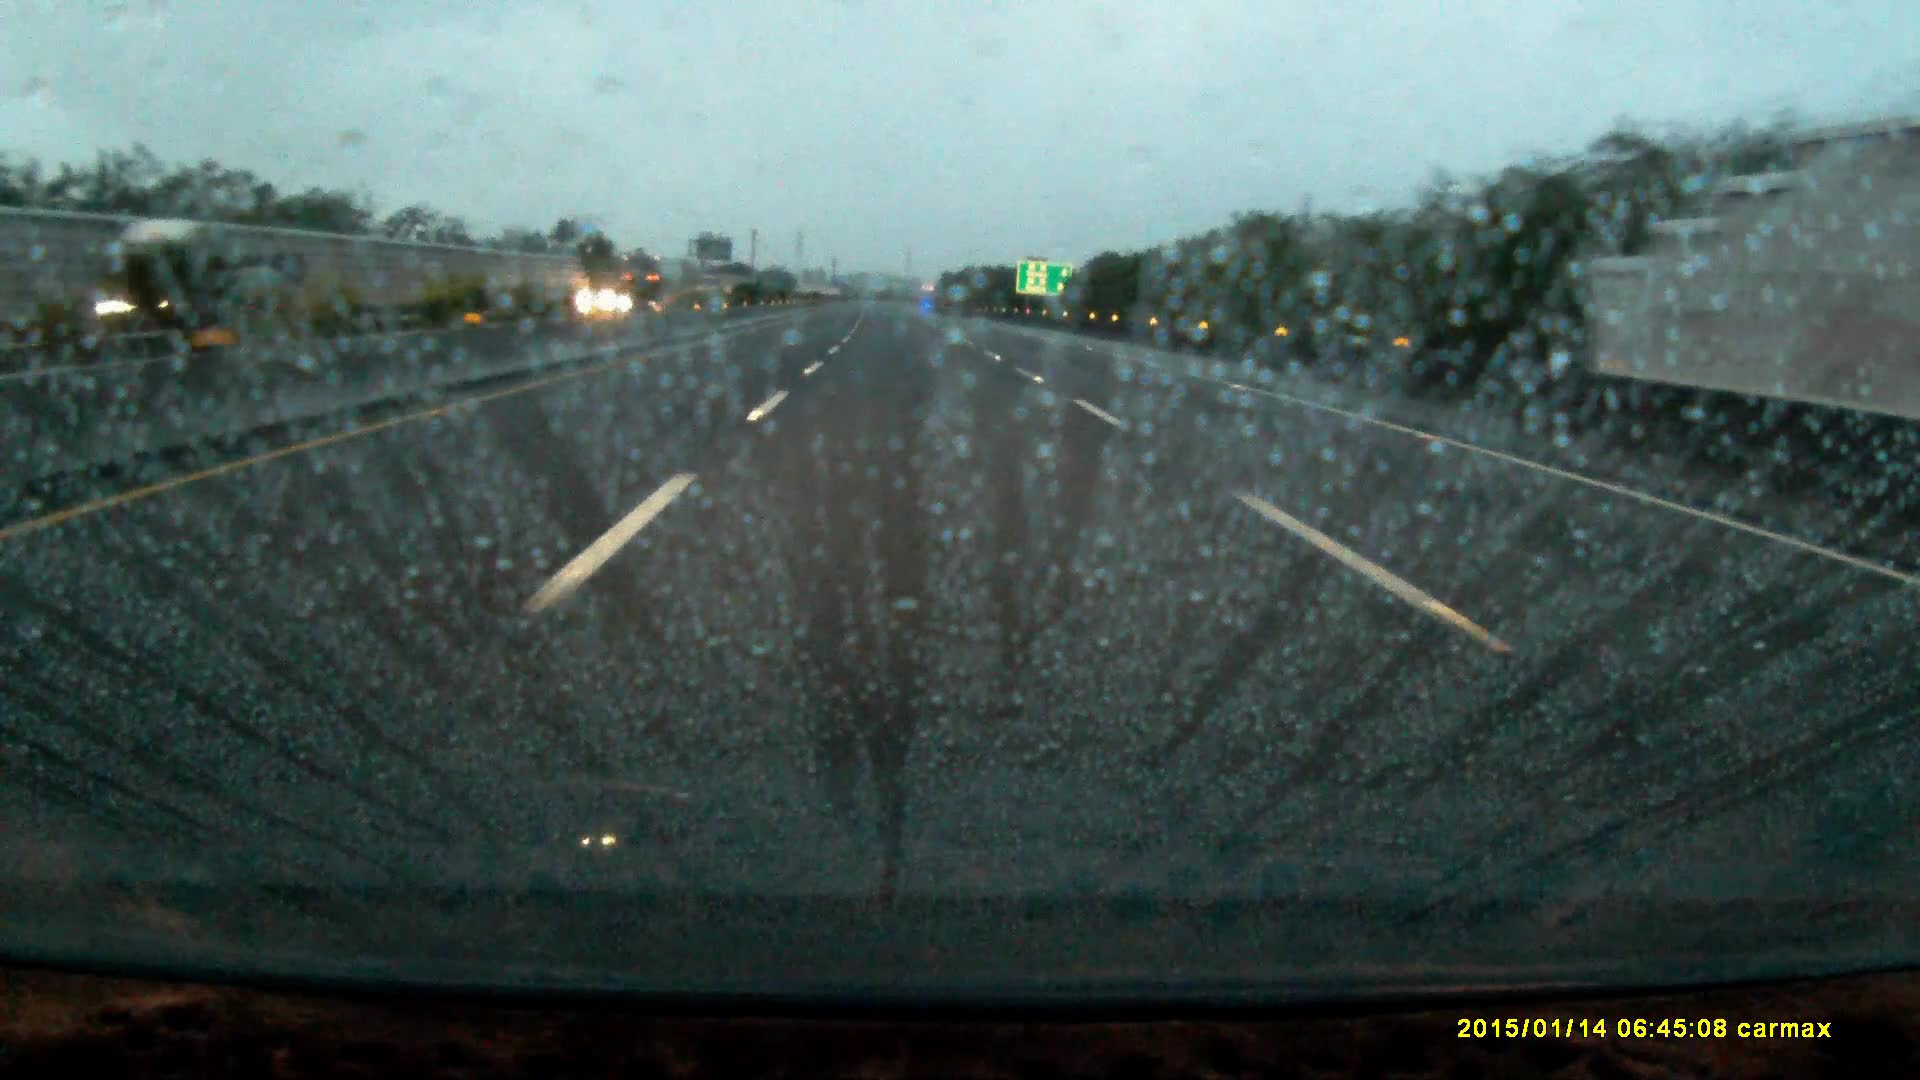vehicle: (111, 220, 307, 357), (618, 256, 684, 316)
